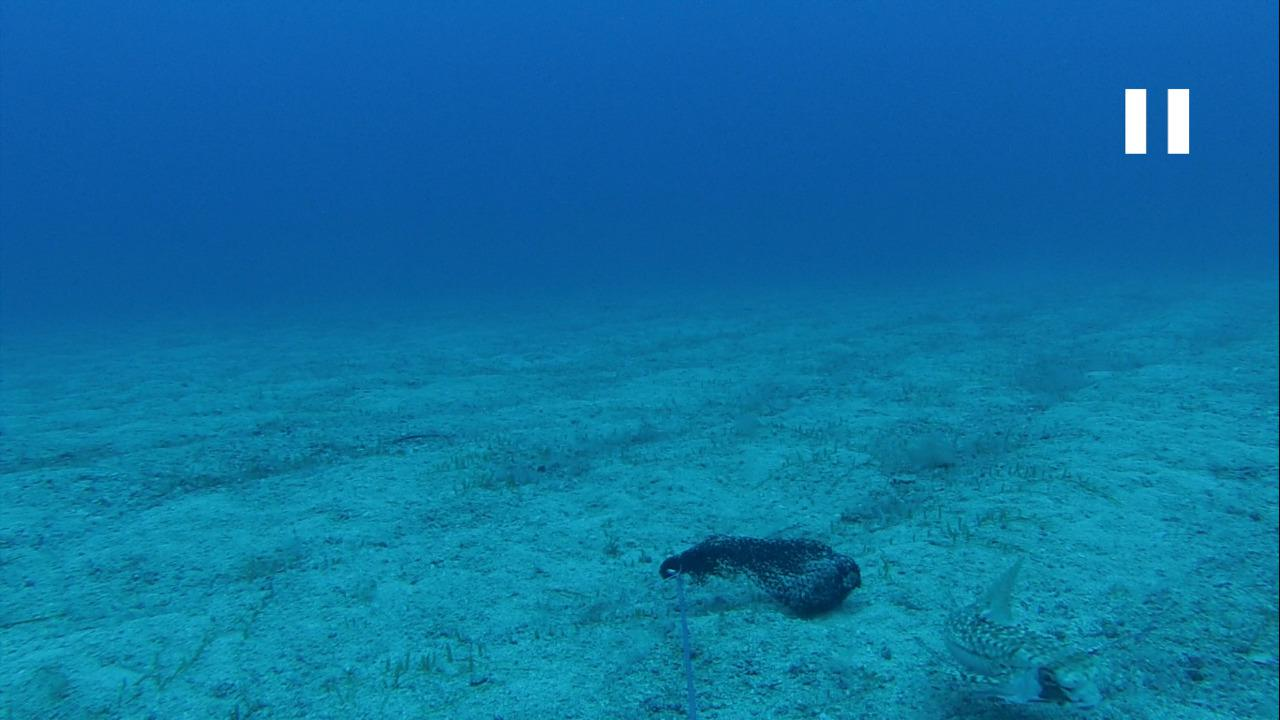dactylopterus: (926, 553, 1114, 707)
